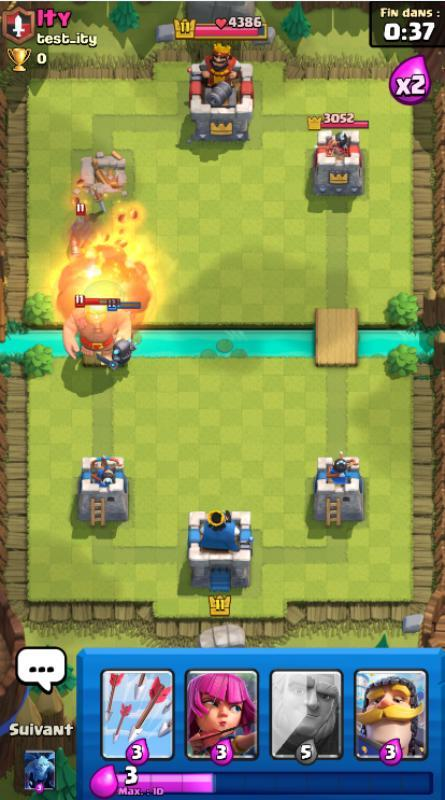geant: (62, 295, 131, 366)
mini_PEKKA: (96, 336, 138, 371)
mousquetaire: (68, 204, 95, 257)
